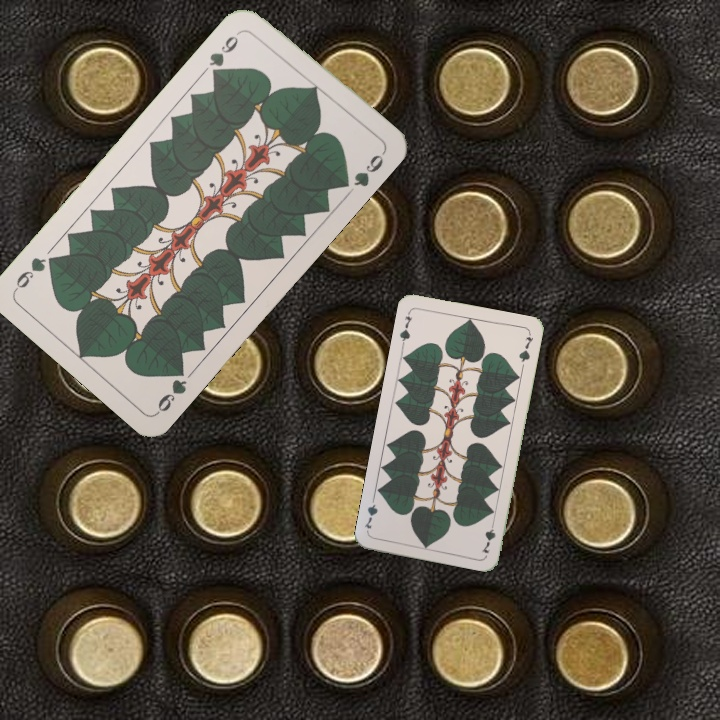G7: (478, 516, 498, 556), (395, 308, 415, 348)
G9: (205, 26, 246, 79), (153, 361, 189, 416)
